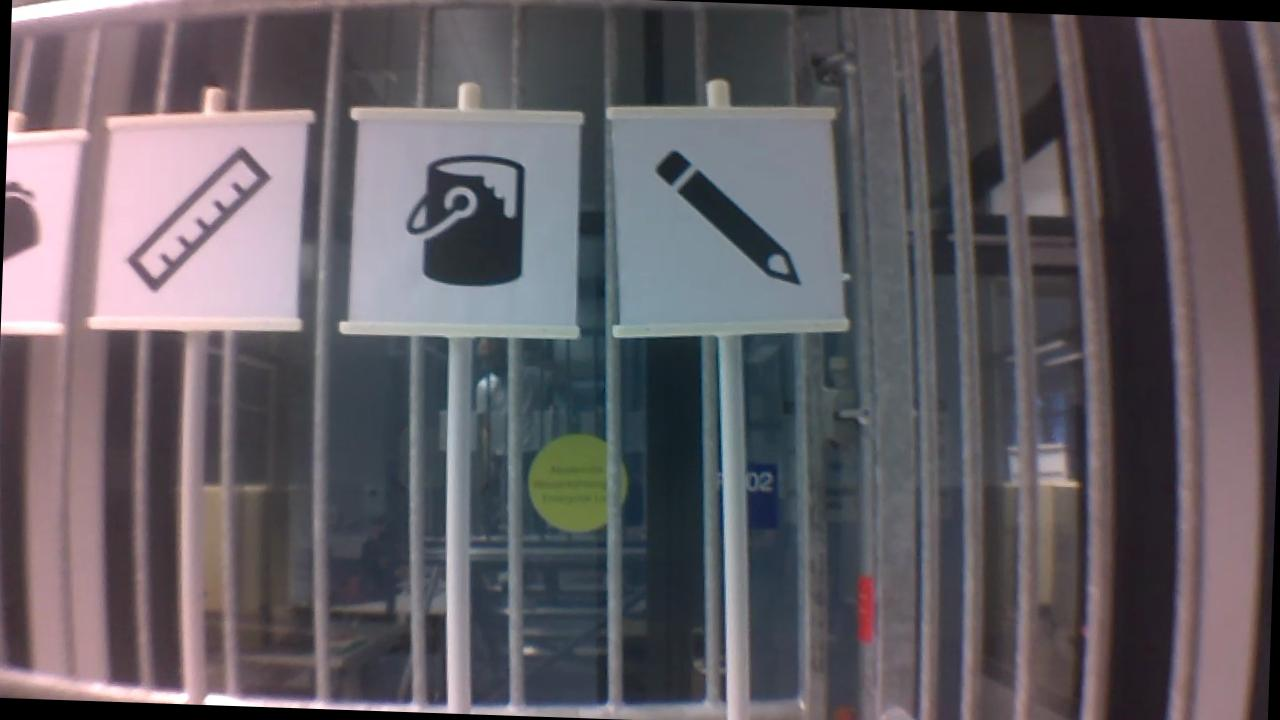bucket: (398, 147, 532, 293)
pencil: (640, 144, 814, 293)
ruler: (120, 134, 274, 301)
